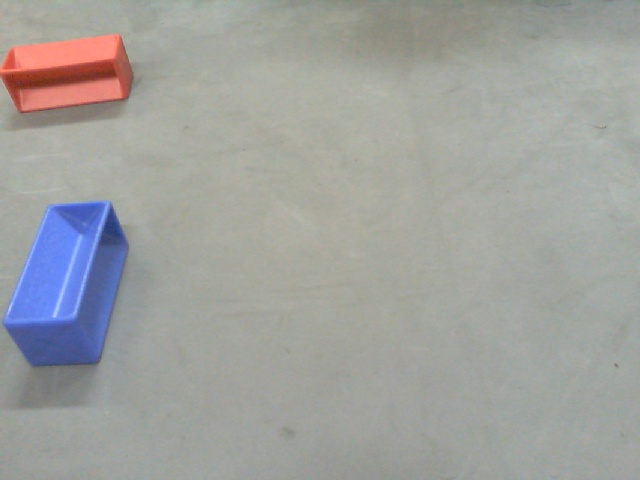BlueSample: (1, 199, 131, 368)
RedSample: (1, 29, 138, 119)
